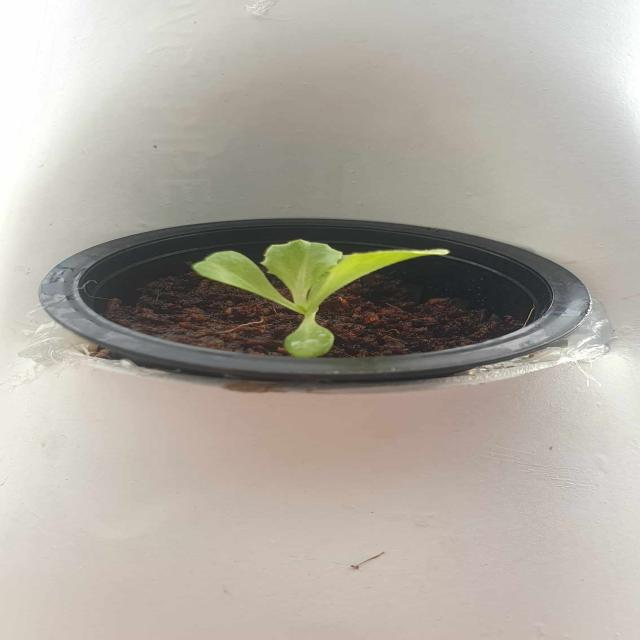Lettuce-Not-Ready-to-Harvest: (189, 232, 460, 366)
